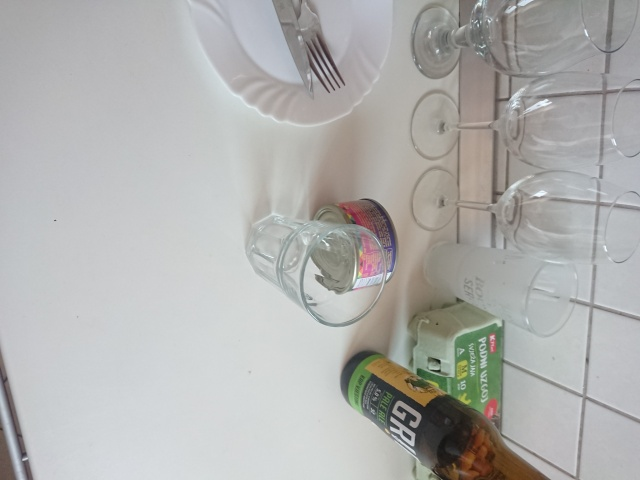Giana Tuna Salad Mexico 185g: (308, 196, 402, 297)
